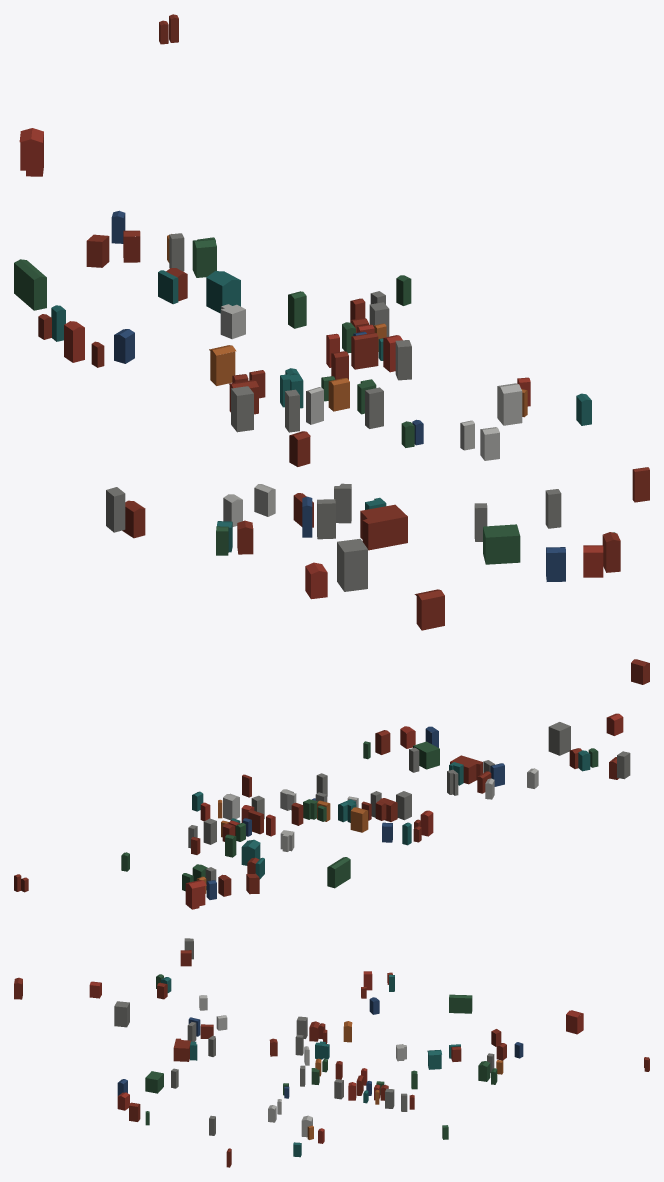
The model's file is near-15-27371-14874.811b0b5d.glb.
The picture shows the model from 3 angles, top to bottom: view 1: azimuth 30°, elevation 25°; view 2: azimuth 150°, elevation 25°; view 3: azimuth 270°, elevation 25°; orthographic projection. The views are drawn at different scales.
Bounding box in the file's own units: 417 × 129 × 779.
